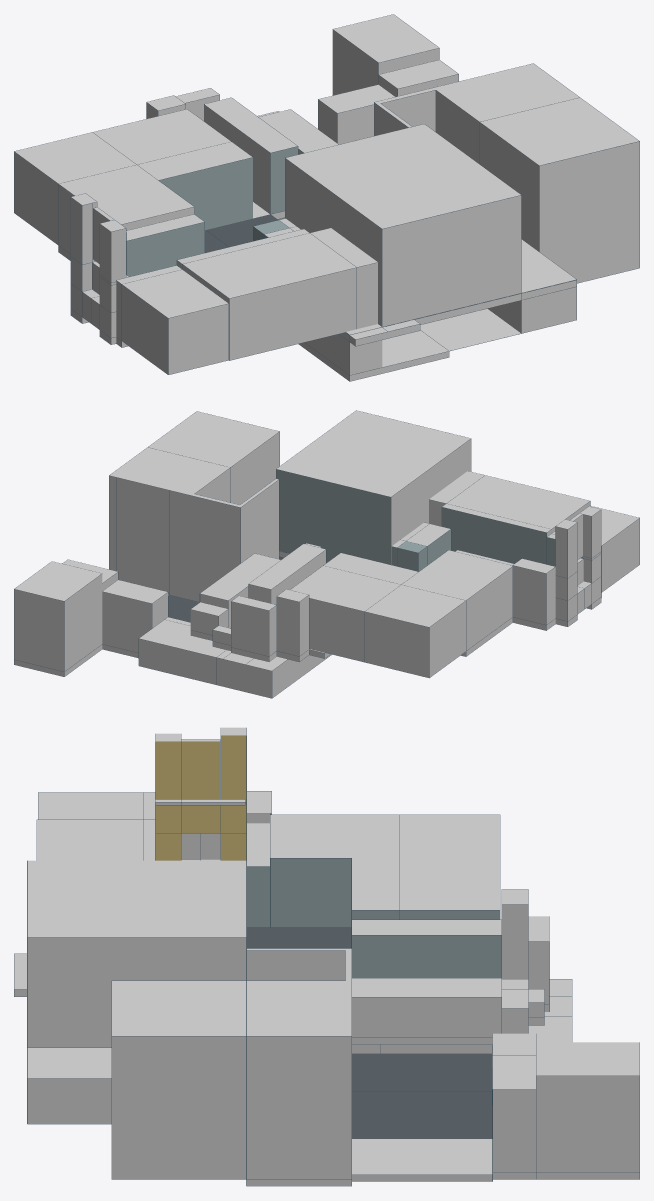
File: model_bloom3d.glb
3 views of the same model, one above another, from view 1: azimuth 30°, elevation 25°; view 2: azimuth 150°, elevation 25°; view 3: azimuth 270°, elevation 25° (orthographic). The views are drawn at different scales.
Bounding box in the file's own units: 136 × 40.43 × 129.
